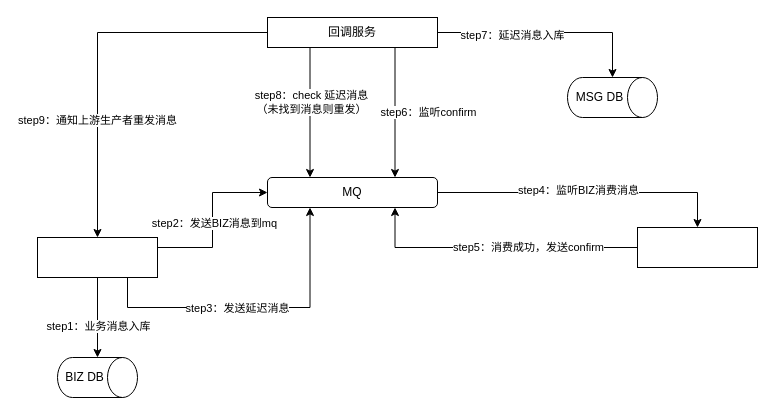
Some shapes in this 775 by 415 pixel diagram are drawn without their labels. Each missing label, with the box of its shape:
上游生产者: (36, 236, 158, 278)
下游消费者: (636, 226, 758, 268)
